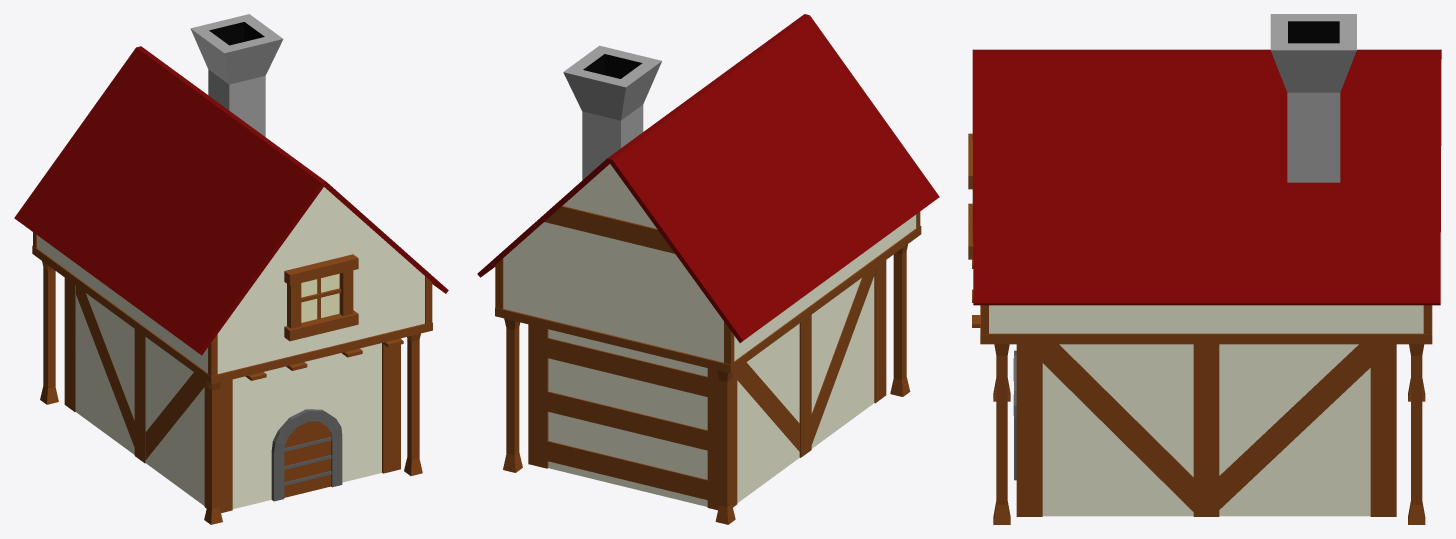
File: CASA_1.fbx
The picture shows the model from 3 angles, left to right: view 1: azimuth 30°, elevation 25°; view 2: azimuth 150°, elevation 25°; view 3: azimuth 270°, elevation 25°; orthographic projection. The views are drawn at different scales.
Visible parts, largest first — view 1: House1; view 2: House1; view 3: House1.
Part boxes in pixels (x1,y1,x2,y2): House1: [14, 14, 448, 524]; House1: [477, 14, 939, 524]; House1: [968, 14, 1441, 524].
Bounding box in the file's own units: 1097 × 1515 × 1423.
